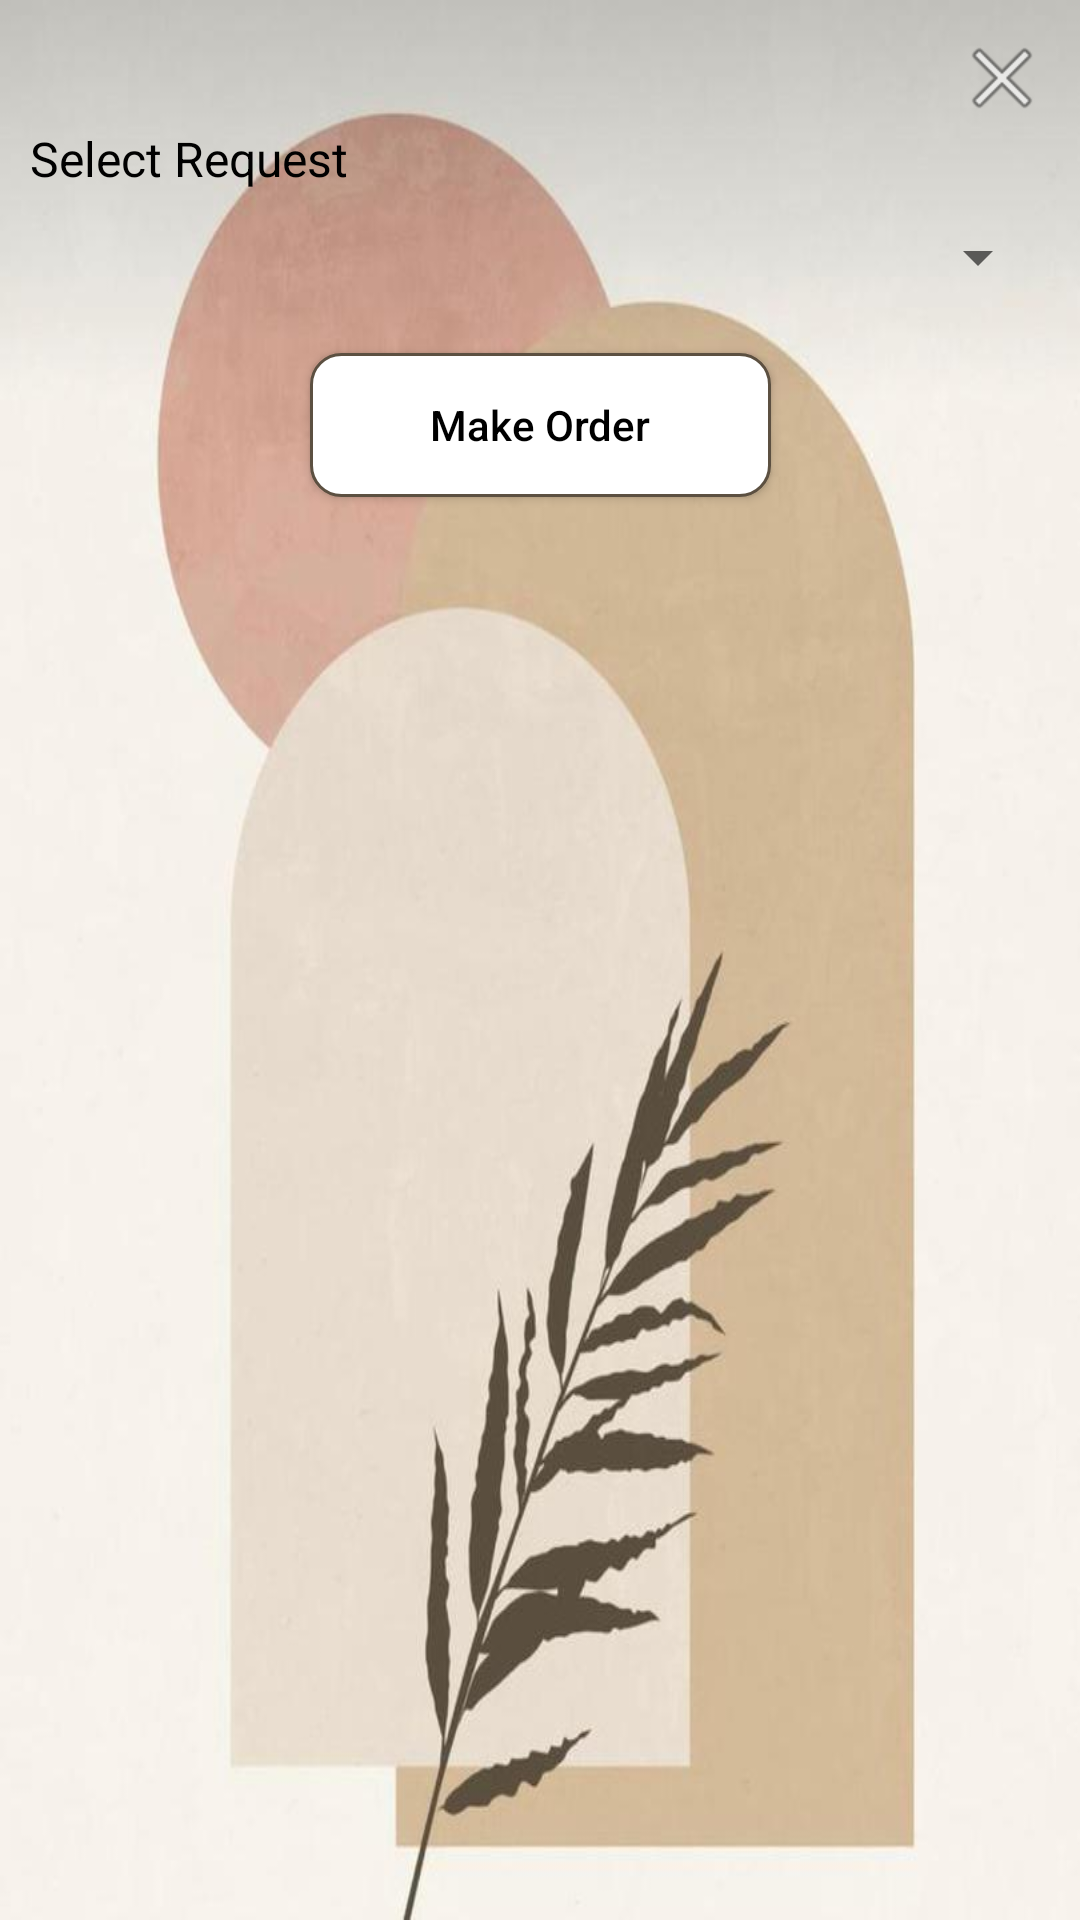

Locate icon controls on the screen. Image size 1080w x 1920h, boxes as (left=x1, top=y1, right=x2, bottom=y2).
close clear cancel: (left=972, top=48, right=1032, bottom=108)
